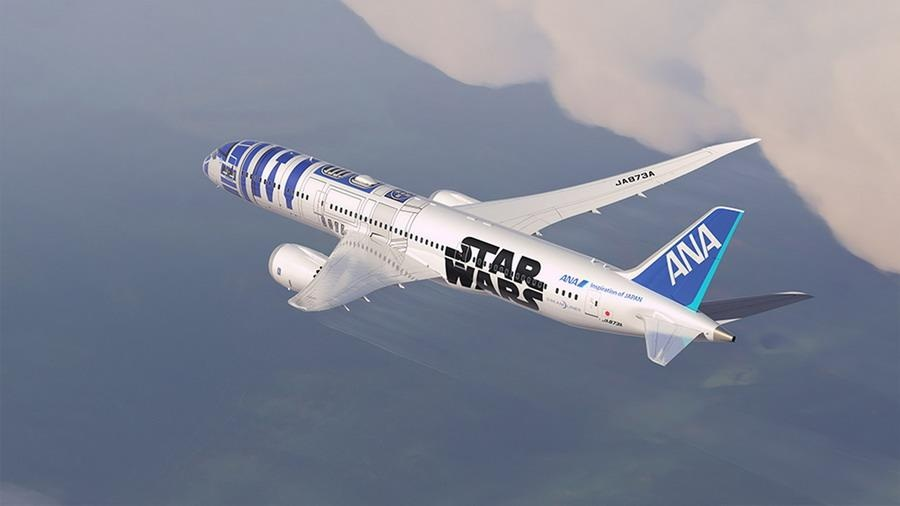airplane: (194, 124, 824, 368)
